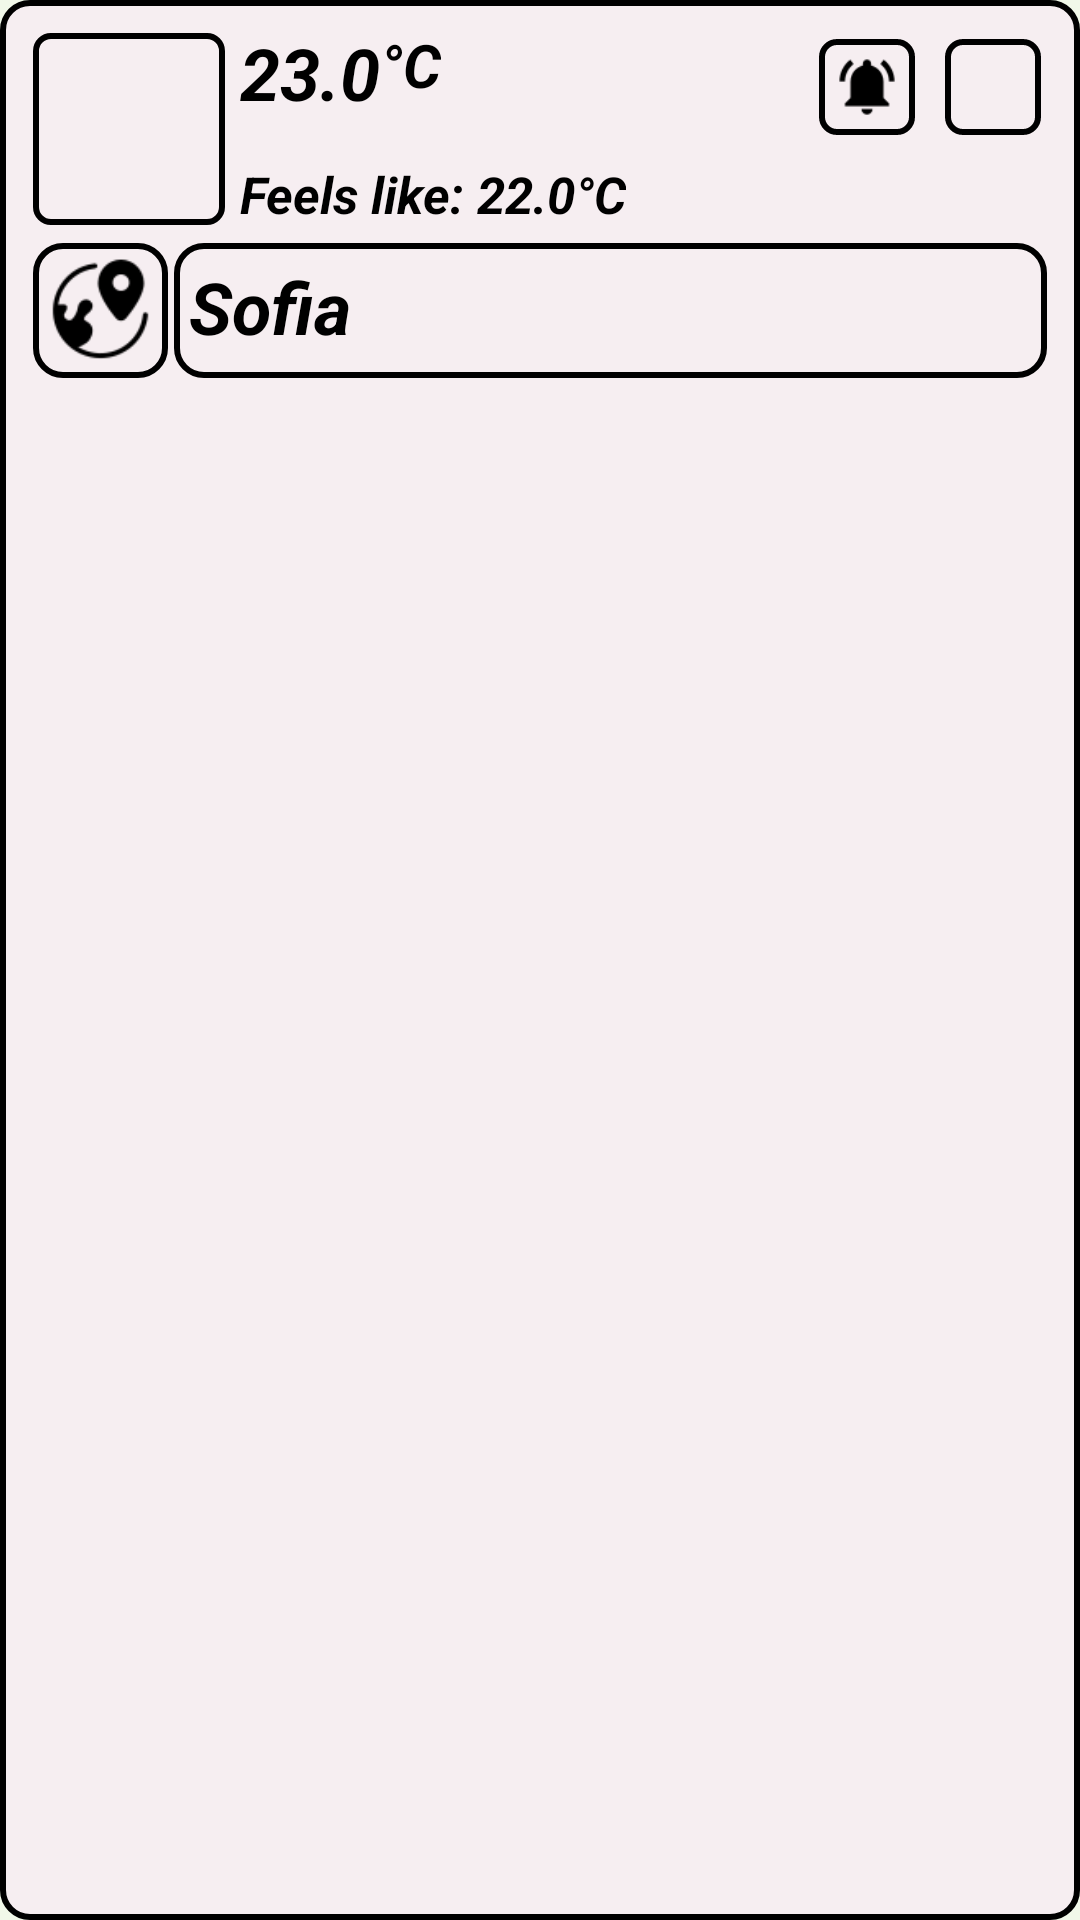

Point at icon controls on the screen. Image size 1080 x 1920, points as [x,y].
location: [100,310]
notification on: [867,87]
